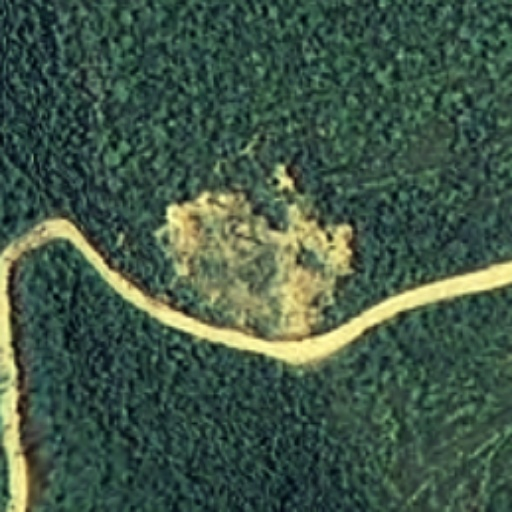landslide: (166, 191, 354, 331)
